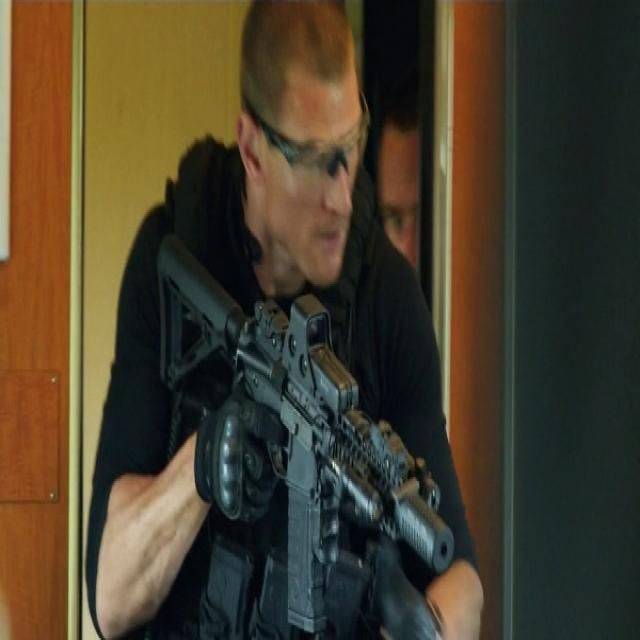rifle: (150, 227, 461, 640)
